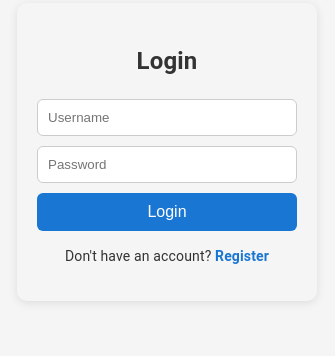
Login Component › shows error message when login fails
The image size is (335, 356).
In the field with placeholder "Username": (167, 117) left=37, top=99, right=297, bottom=136, type "wronguser"
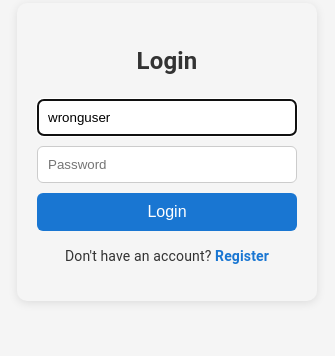
In the password field with placeholder "Password": (167, 164) left=37, top=146, right=297, bottom=183, type "wrongpass"
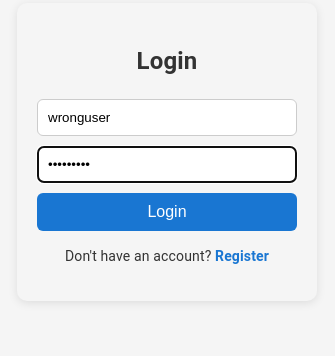
Click the button "Login": (167, 212) left=37, top=193, right=297, bottom=231
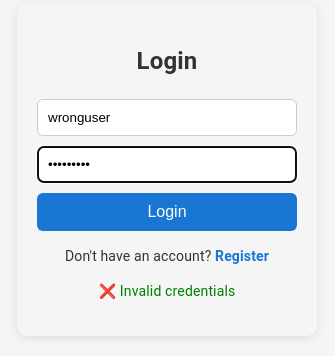
Now the text "❌ Invalid credentials" is shown, box left=99, top=283, right=235, bottom=299
